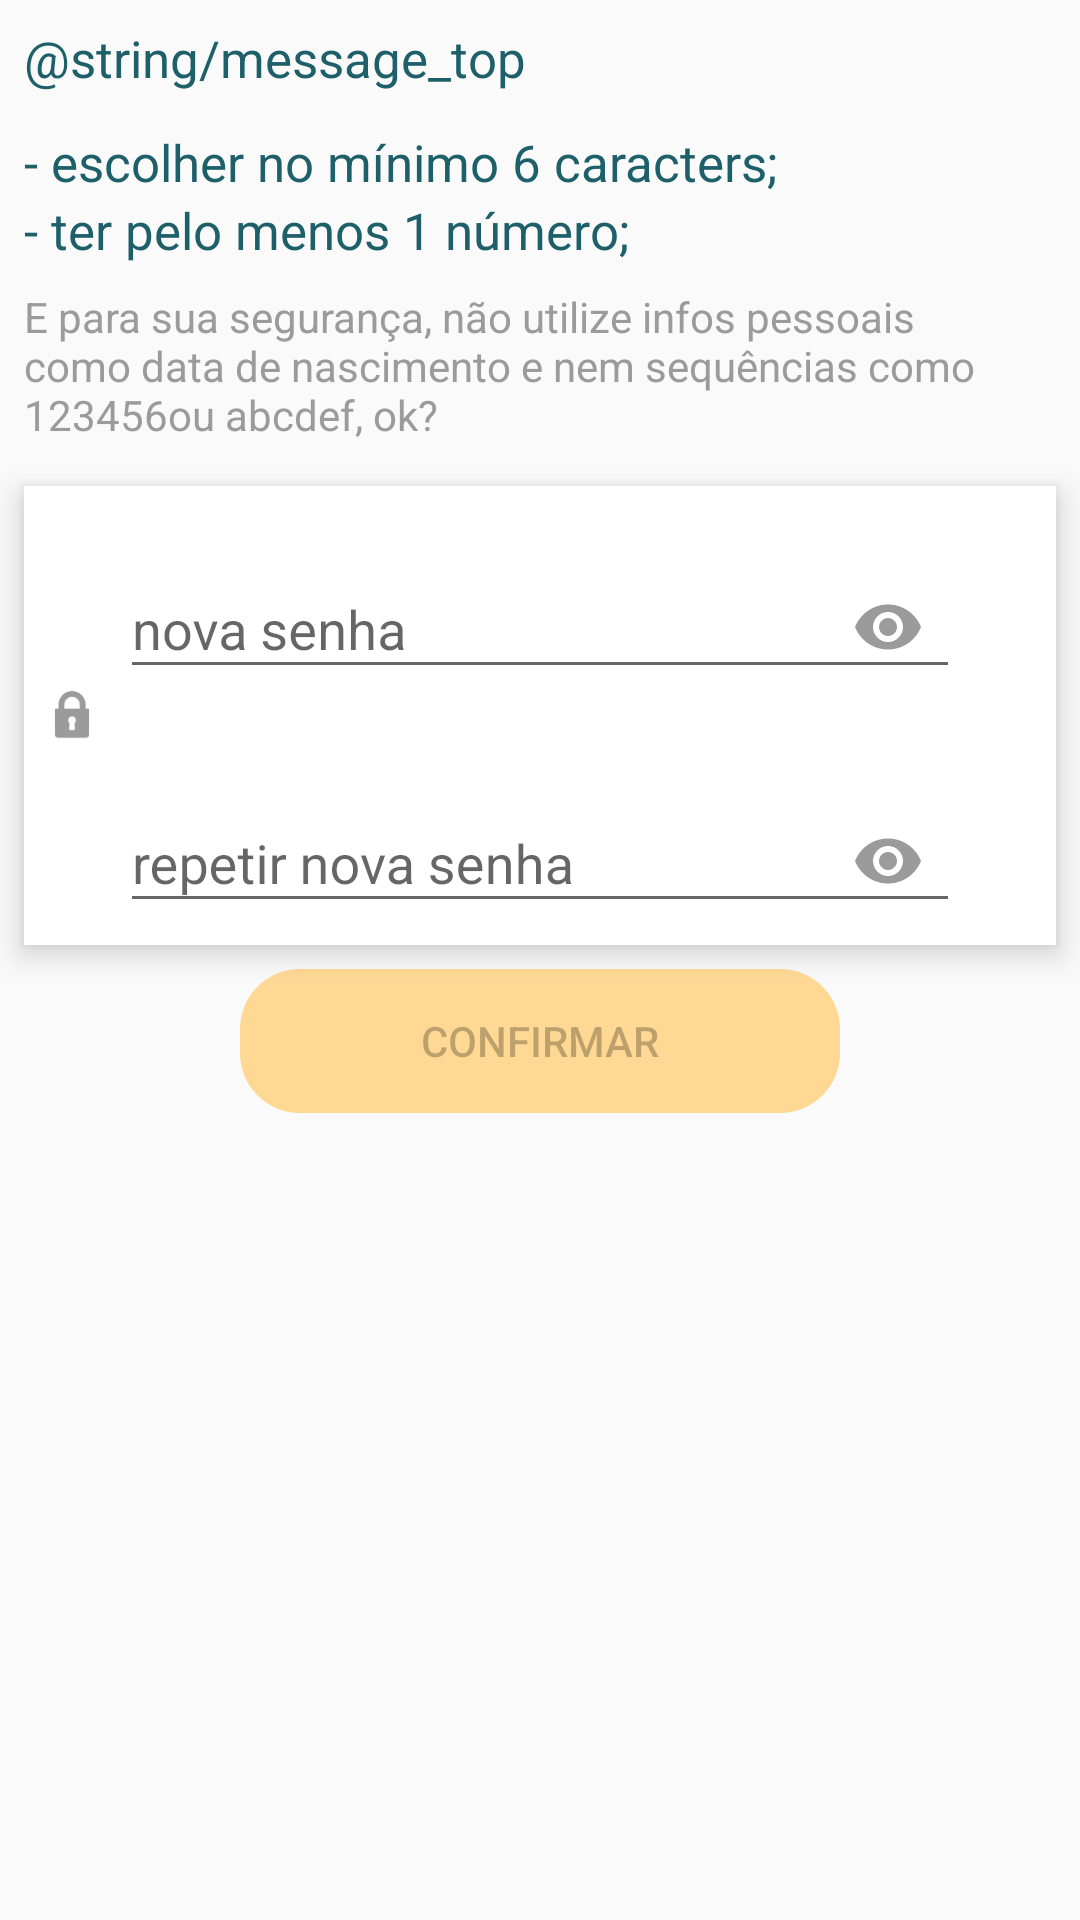

Icon bounding boxes for this 1080px x 1920px phone screenshot, format box=[x1, y1, x2, y2]:
password: box=[55, 691, 89, 738]
